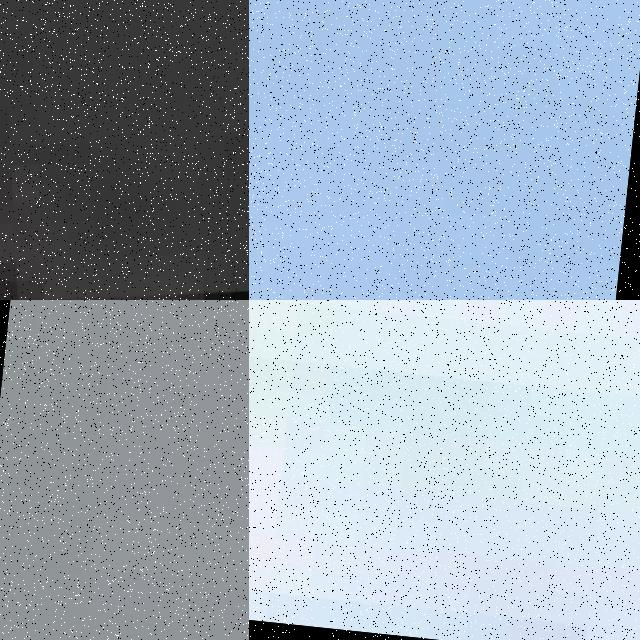0: (0, 0, 249, 300)
drone: (249, 0, 640, 300)
